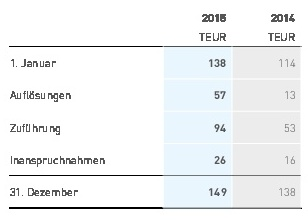table: (0, 0, 308, 221)
